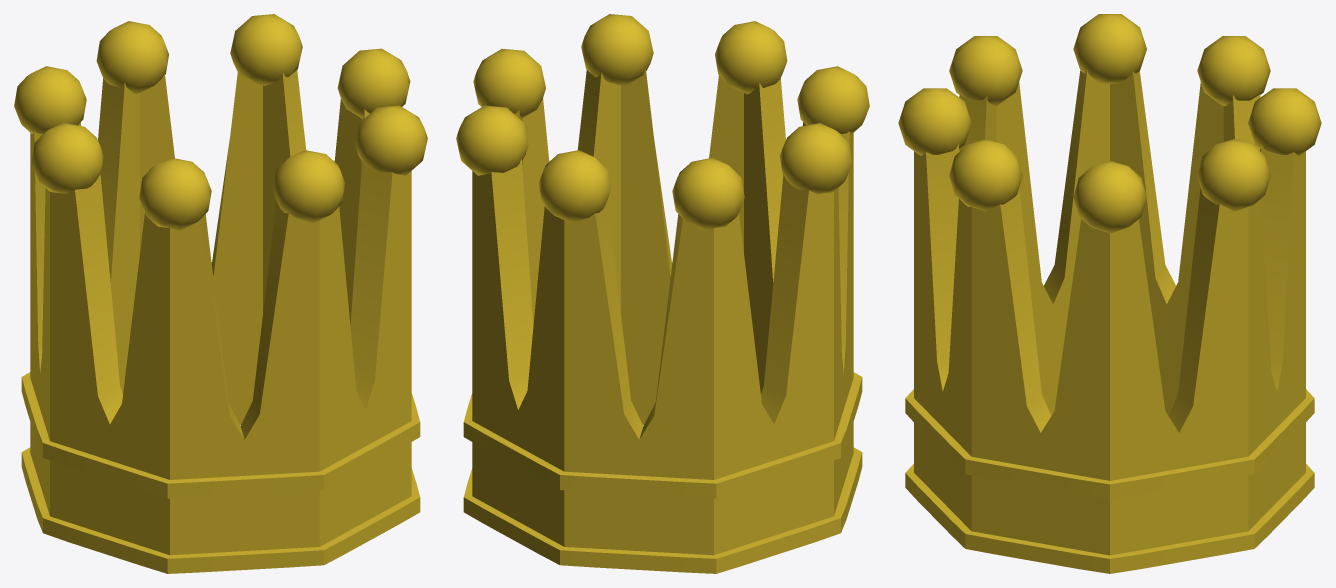
The model's file is Crown.fbx.
3 views of the same model, side by side, from view 1: azimuth 30°, elevation 25°; view 2: azimuth 150°, elevation 25°; view 3: azimuth 270°, elevation 25° (orthographic).
Parts seen in each view (by area): view 1: Crown; view 2: Crown; view 3: Crown.
Part boxes in pixels (x1,y1,x2,y2): Crown: (14,14,427,573); Crown: (456,14,869,573); Crown: (898,14,1321,573).
Size of the model in its own units: 215 by 224 by 216.
